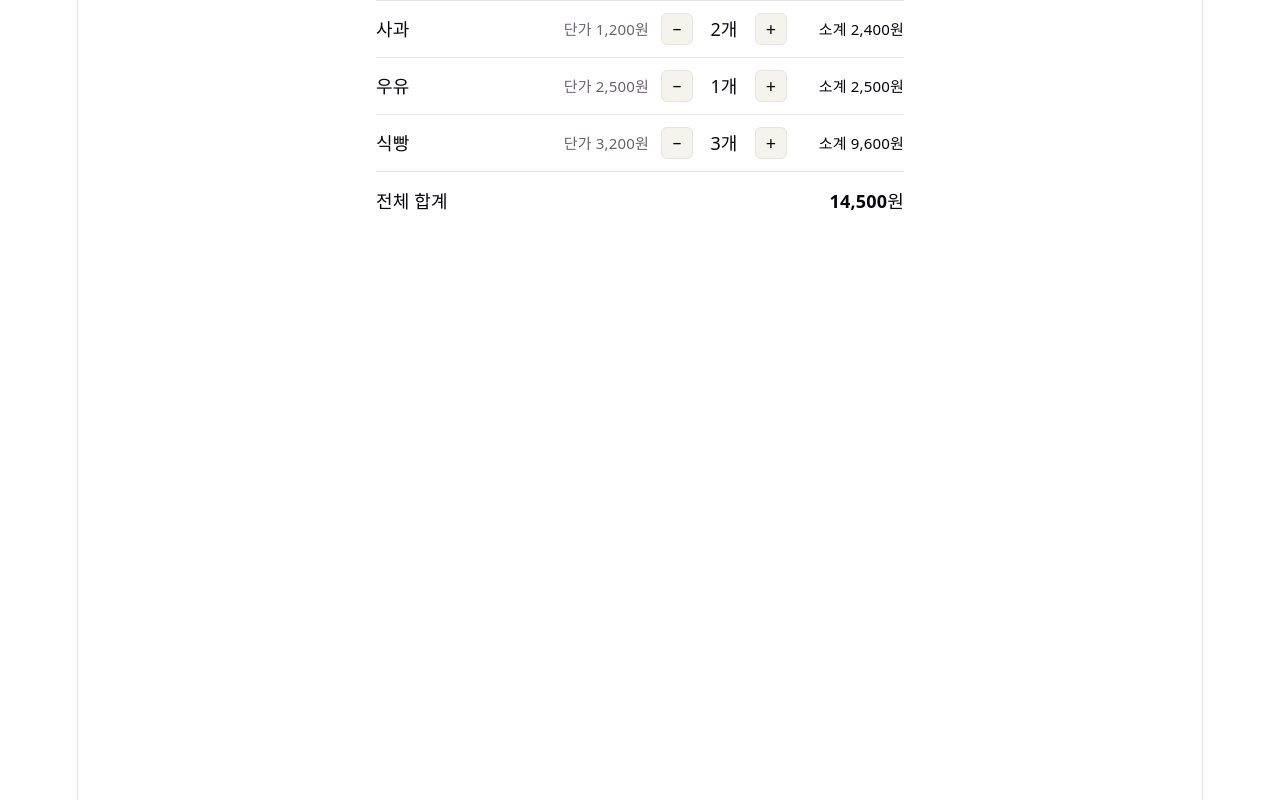
CartList › − 를 누르면 그 줄의 수량이 1 내려간다 (S8)
Click the button "−" in the row of "식빵". click: click(677, 143)
box: [661,127,693,159]
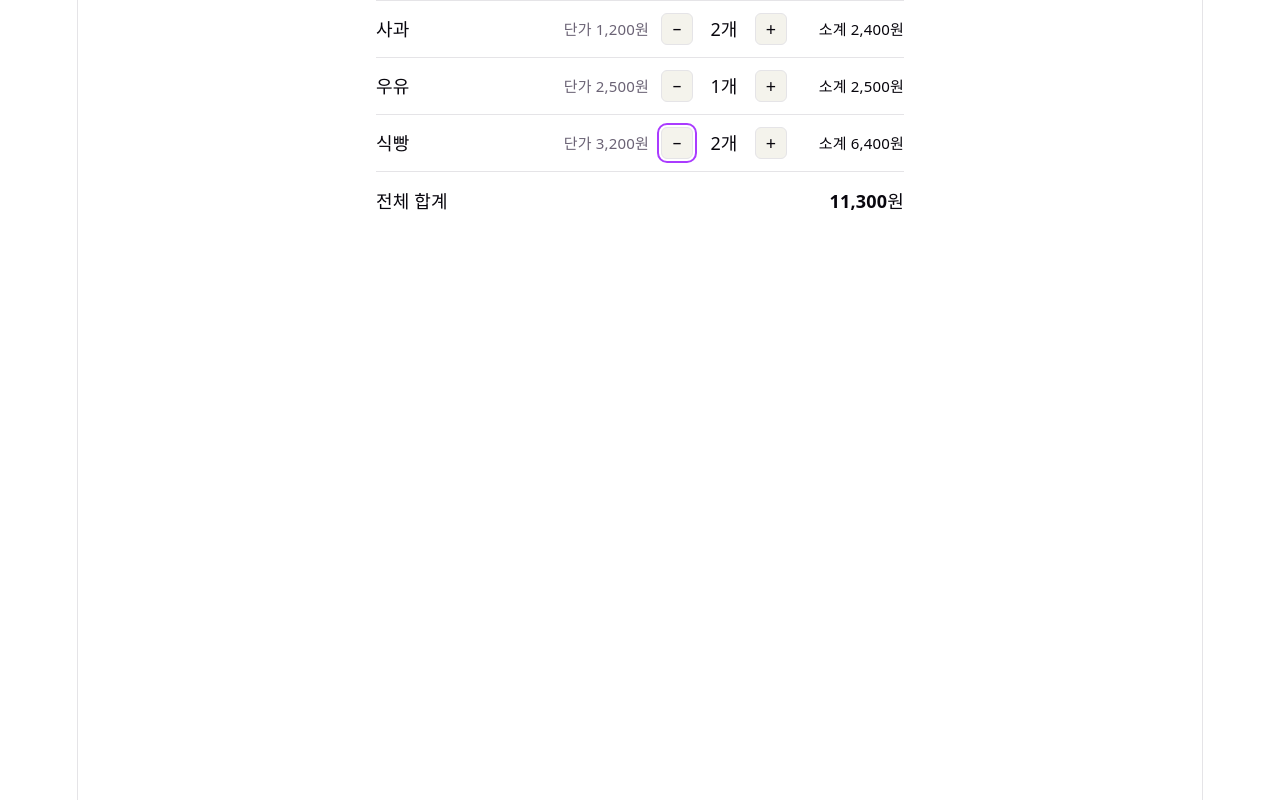
Now the text "2개" in the row of "식빵" is shown, box [710,131,738,155]
Now the text "소계 6,400원" is shown, box [819,133,904,153]
